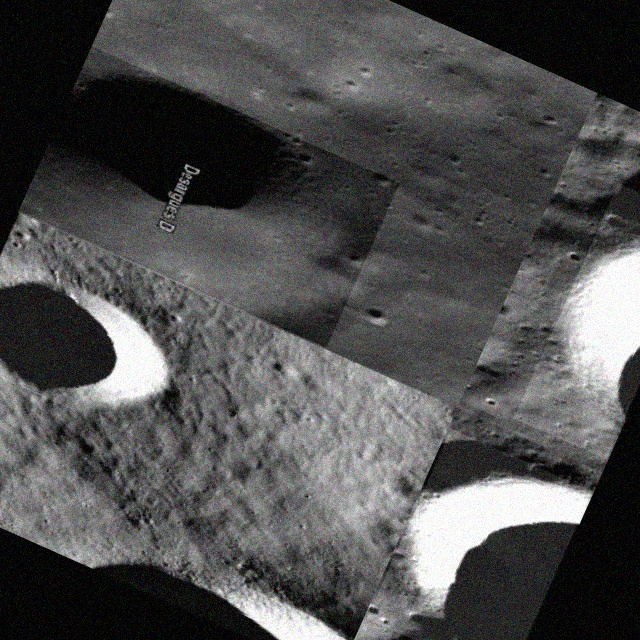crater: (18, 46, 400, 348), (367, 429, 592, 640), (0, 254, 190, 441), (513, 183, 640, 459)
